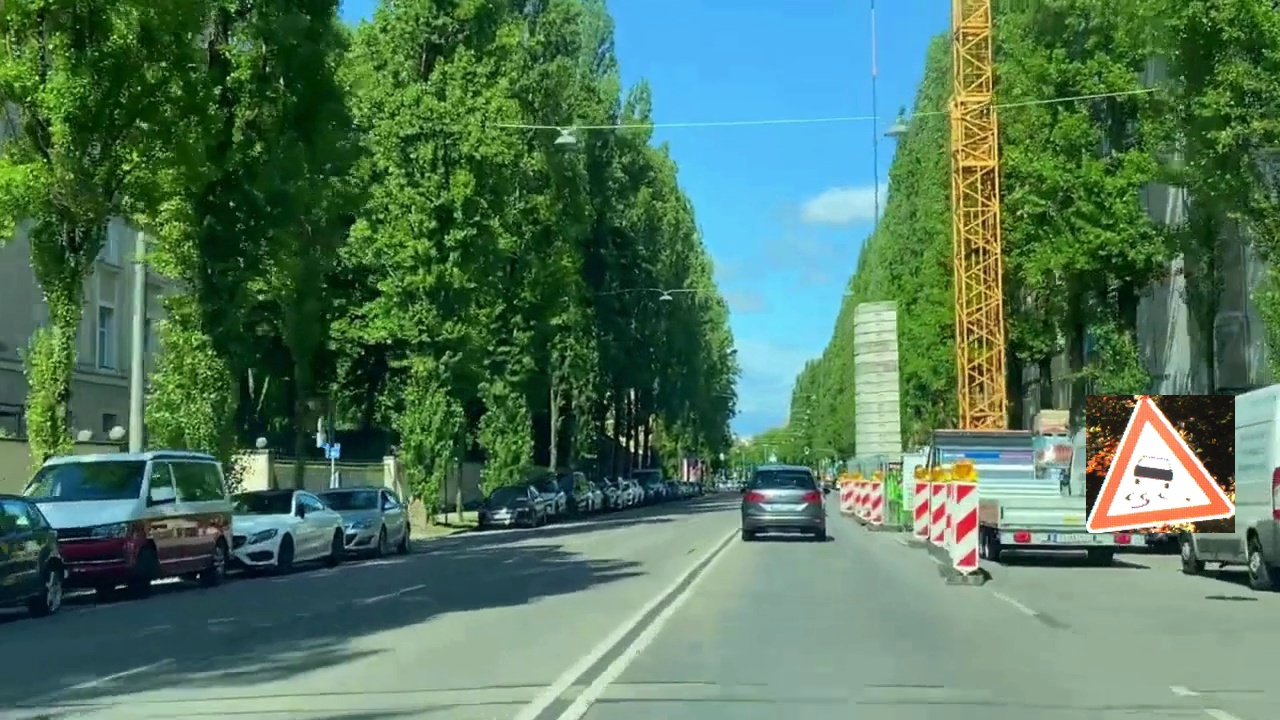Slippery: (1086, 395, 1235, 533)
